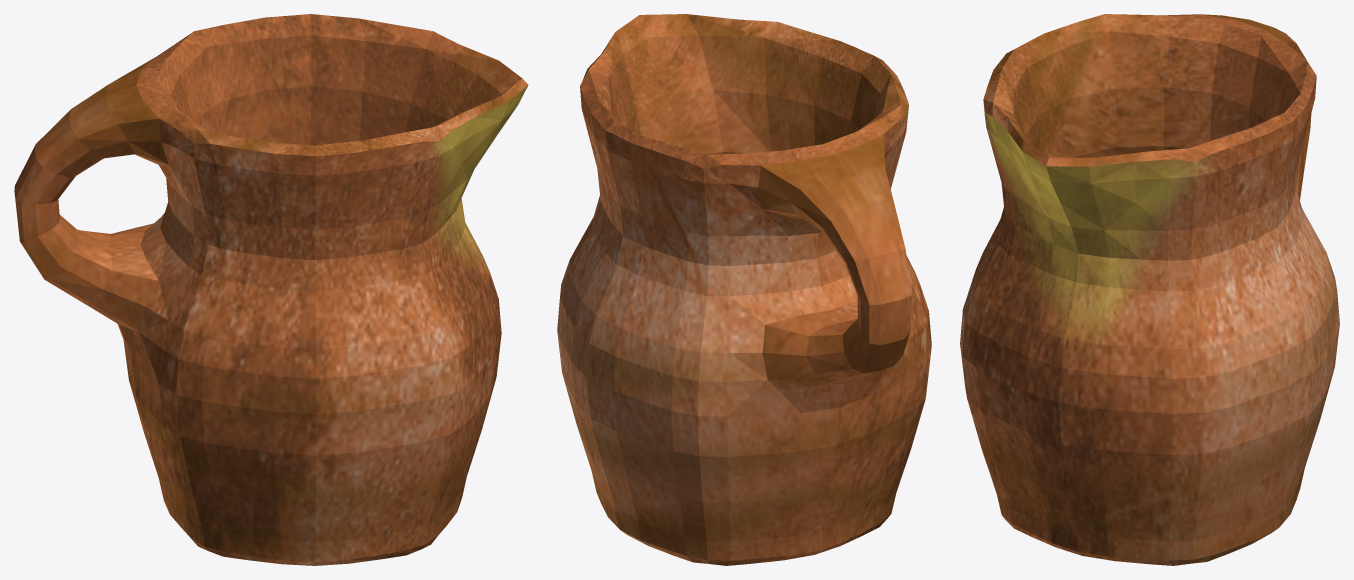
Rendered from old_jar.obj.
The picture shows the model from 3 angles, left to right: view 1: azimuth 30°, elevation 25°; view 2: azimuth 150°, elevation 25°; view 3: azimuth 270°, elevation 25°; orthographic projection. The views are drawn at different scales.
Parts seen in each view (by area): view 1: jar_Plane; view 2: jar_Plane; view 3: jar_Plane.
Boxes of the visible parts, x1,y1,x2,y2 form: jar_Plane: [14, 14, 528, 565]; jar_Plane: [557, 14, 931, 565]; jar_Plane: [960, 14, 1339, 565].
Bounding box in the file's own units: 1.03 × 1.06 × 0.8551.
Materials: 1 (1 with a texture image).
